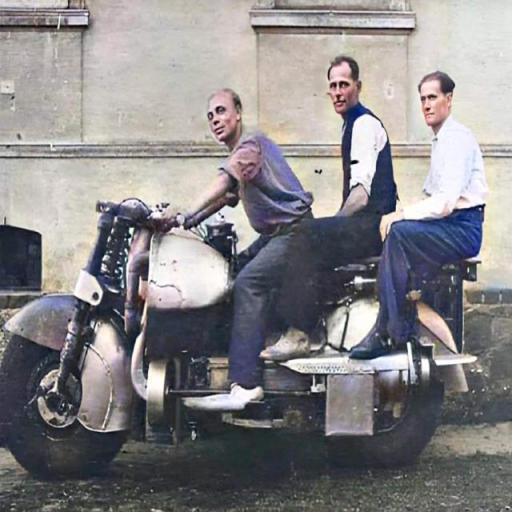tripple riding: (192, 53, 482, 401)
